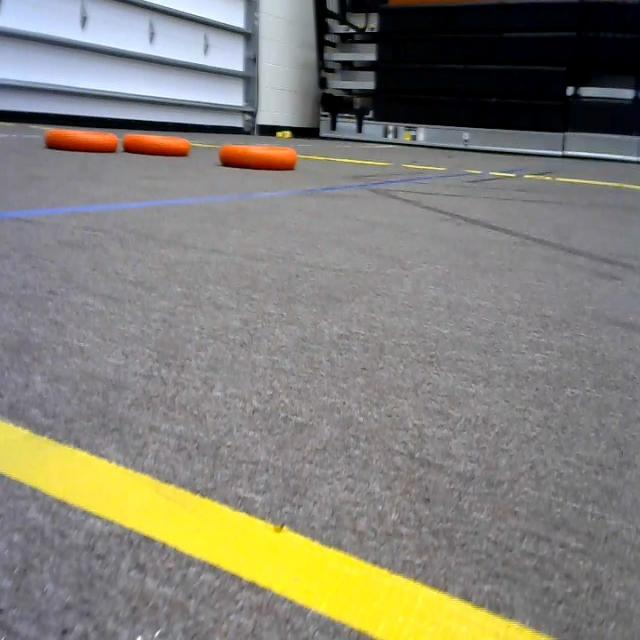note: (216, 134, 304, 178), (119, 118, 197, 166), (44, 116, 120, 158)
